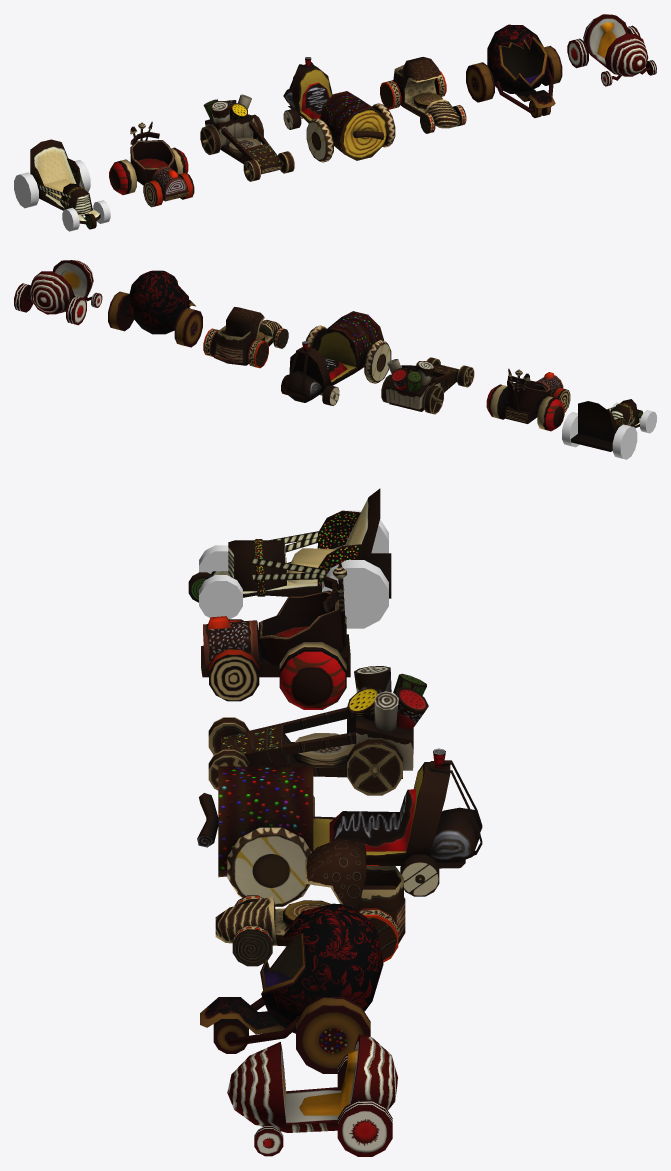
Rendered from sweet car.FBX.
3 renders of one model, top to bottom at view 1: azimuth 30°, elevation 25°; view 2: azimuth 150°, elevation 25°; view 3: azimuth 270°, elevation 25°, orthographic. The views are drawn at different scales.
Visible parts, largest first — view 1: sweet_car02, sweet_car06, sweet_car05, sweet_car03, sweet_car07, sweet_car01, sweet_car04, sweet_car02_w02.1, sweet_car06_w01.1, sweet_car04_w01.1, sweet_car05_w01.1, sweet_car07_w01.1 (+6 smaller); view 2: sweet_car02, sweet_car06, sweet_car07, sweet_car03, sweet_car01, sweet_car05, sweet_car04, sweet_car06_w01.1, sweet_car02_w02.1, sweet_car04_w01.1, sweet_car06_w01.2, sweet_car05_w01.1 (+10 smaller); view 3: sweet_car02, sweet_car06, sweet_car03, sweet_car07, sweet_car05, sweet_car01, sweet_car04, sweet_car02_w02.2, sweet_car06_w01.2, sweet_car04_w01.2, sweet_car05_w01.2, sweet_car07_w01.2 (+6 smaller).
Part boxes in pixels (left/top/right/bottom): sweet_car02: left=283, top=57, right=388, bottom=160; sweet_car06: left=487, top=24, right=555, bottom=112; sweet_car05: left=30, top=139, right=100, bottom=229; sweet_car03: left=202, top=94, right=283, bottom=174; sweet_car07: left=583, top=14, right=650, bottom=80; sweet_car01: left=392, top=57, right=460, bottom=128; sweet_car04: left=130, top=121, right=188, bottom=201; sweet_car02_w02.1: left=306, top=118, right=333, bottom=162; sweet_car06_w01.1: left=466, top=62, right=494, bottom=102; sweet_car04_w01.1: left=109, top=159, right=136, bottom=194; sweet_car05_w01.1: left=14, top=172, right=38, bottom=208; sweet_car07_w01.1: left=567, top=38, right=588, bottom=68; sweet_car02: left=281, top=311, right=384, bottom=402; sweet_car06: left=125, top=270, right=195, bottom=334; sweet_car07: left=27, top=260, right=93, bottom=314; sweet_car03: left=385, top=359, right=473, bottom=411; sweet_car01: left=213, top=307, right=282, bottom=365; sweet_car05: left=570, top=399, right=642, bottom=451; sweet_car04: left=504, top=368, right=563, bottom=423; sweet_car06_w01.1: left=174, top=308, right=202, bottom=347; sweet_car02_w02.1: left=364, top=340, right=391, bottom=383; sweet_car04_w01.1: left=537, top=396, right=564, bottom=431; sweet_car06_w01.2: left=108, top=291, right=133, bottom=331; sweet_car05_w01.1: left=612, top=424, right=637, bottom=459; sweet_car02: left=197, top=748, right=482, bottom=877; sweet_car06: left=200, top=903, right=383, bottom=1046; sweet_car03: left=221, top=666, right=428, bottom=778; sweet_car07: left=227, top=1034, right=398, bottom=1132; sweet_car05: left=188, top=488, right=391, bottom=602; sweet_car01: left=215, top=838, right=405, bottom=946; sweet_car04: left=201, top=560, right=350, bottom=677; sweet_car02_w02.2: left=227, top=827, right=311, bottom=906; sweet_car06_w01.2: left=296, top=997, right=370, bottom=1073; sweet_car04_w01.2: left=279, top=642, right=346, bottom=709; sweet_car05_w01.2: left=322, top=560, right=388, bottom=628; sweet_car07_w01.2: left=337, top=1100, right=392, bottom=1156.
Size of the model in its own units: 230 by 25.71 by 48.39.
